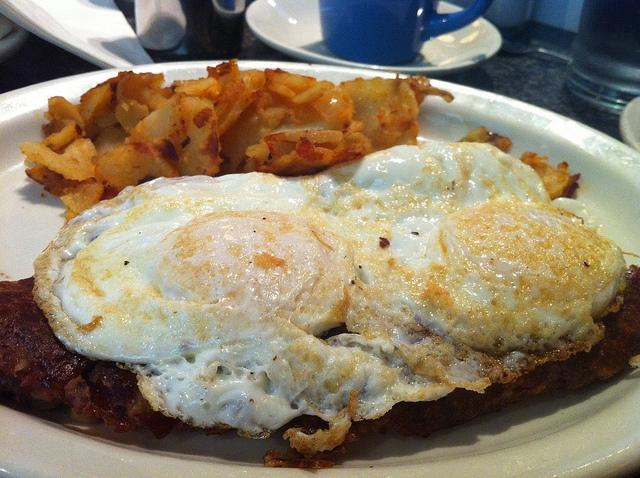potato: (258, 130, 374, 177), (94, 134, 182, 195), (26, 162, 104, 230), (212, 70, 266, 134), (128, 93, 190, 146), (115, 72, 165, 133), (20, 142, 96, 182), (518, 152, 580, 200), (44, 96, 100, 142), (80, 82, 114, 130), (457, 125, 512, 154), (264, 68, 316, 95), (258, 130, 344, 146), (38, 119, 78, 151), (268, 120, 346, 136), (312, 90, 349, 123), (172, 76, 222, 100), (93, 123, 131, 152), (265, 80, 297, 100), (142, 93, 170, 110)
